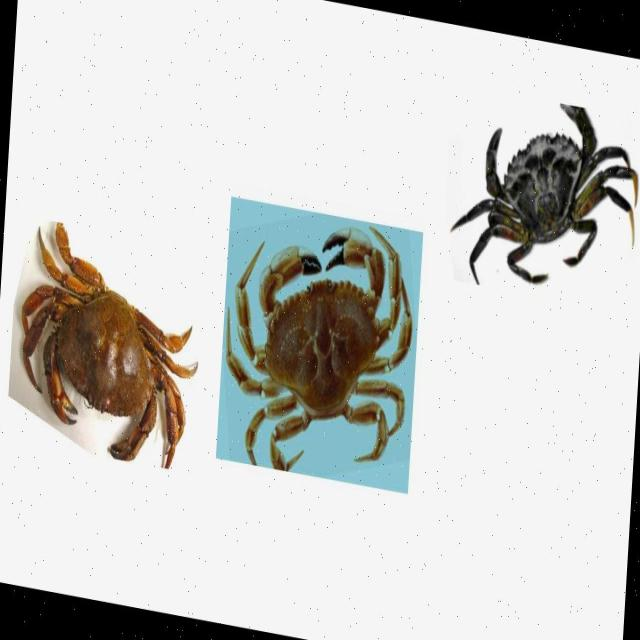egc: (450, 102, 640, 290)
